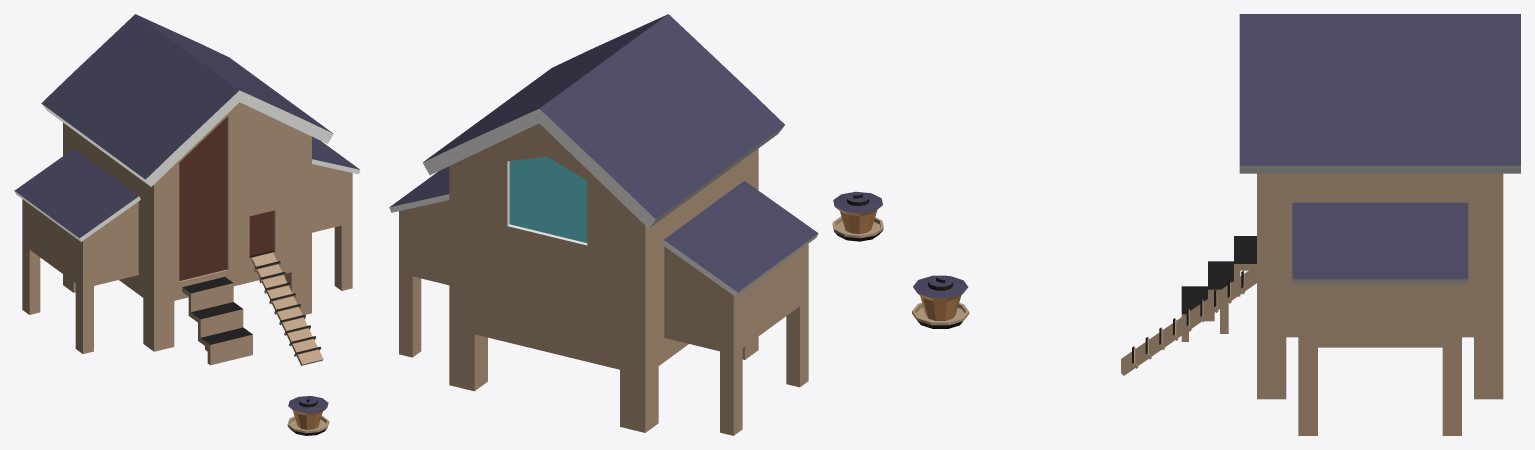
File: Farmi_Kanala.fbx
The picture shows the model from 3 angles, left to right: view 1: azimuth 30°, elevation 25°; view 2: azimuth 150°, elevation 25°; view 3: azimuth 270°, elevation 25°; orthographic projection. The views are drawn at different scales.
Parts seen in each view (by area): view 1: Kanala; view 2: Kanala; view 3: Kanala.
Boxes of the visible parts, x1,y1,x2,y2 form: Kanala: [14, 14, 360, 435]; Kanala: [389, 14, 883, 435]; Kanala: [912, 14, 1520, 435].
Bounding box in the file's own units: 356 × 301 × 495.
